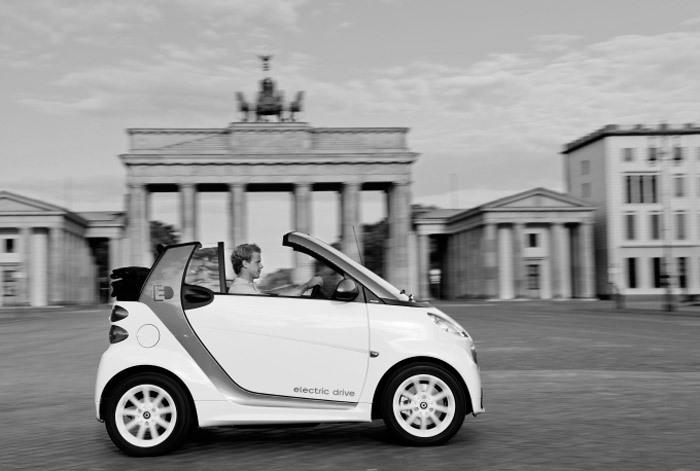car: (93, 234, 487, 464)
